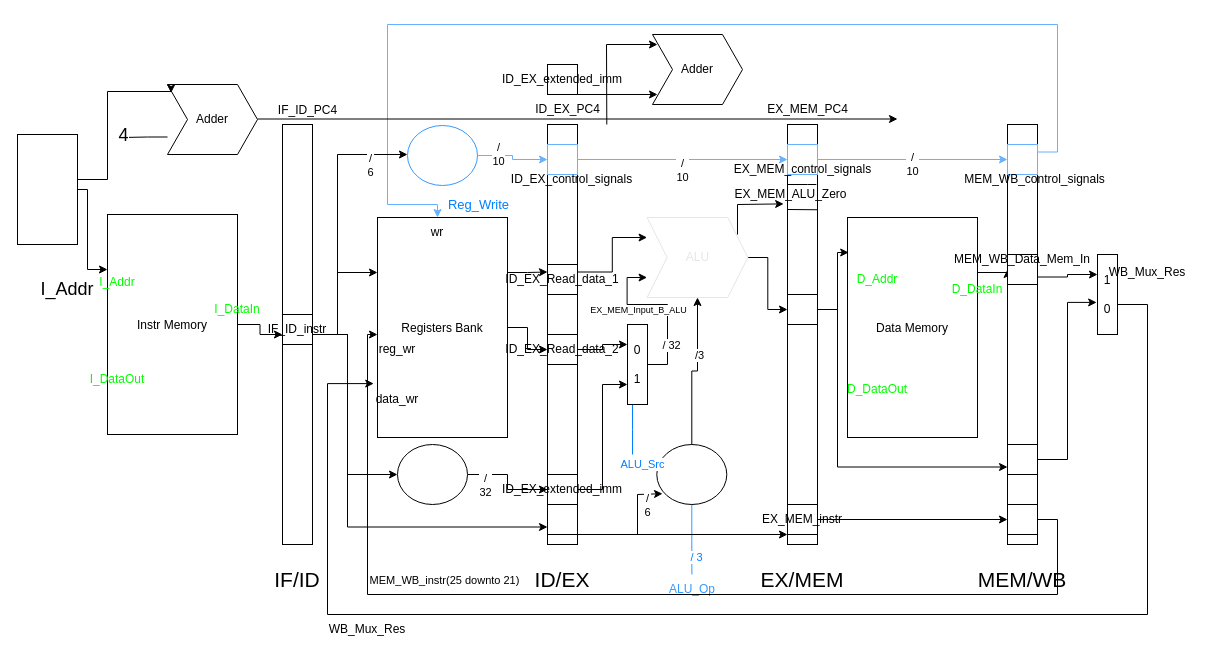
The diagram is 1215 pixels wide and 662 high, and some of its shapes have lost their labels. The centre of each missing label's shape, as x and y in pixels:
"ALU control" belongs at pixel 691 474.
"Control Unit" belongs at pixel 442 155.
"EX_MEM_ALU_Res" belongs at pixel 802 309.
"ID_EX_instr" belongs at pixel 562 519.
"MEM_WB_ALU_Res" belongs at pixel 1022 459.
"MEM_WB_instr" belongs at pixel 1022 519.
"PC" belongs at pixel 47 189.
"Sign ext" belongs at pixel 432 474.
